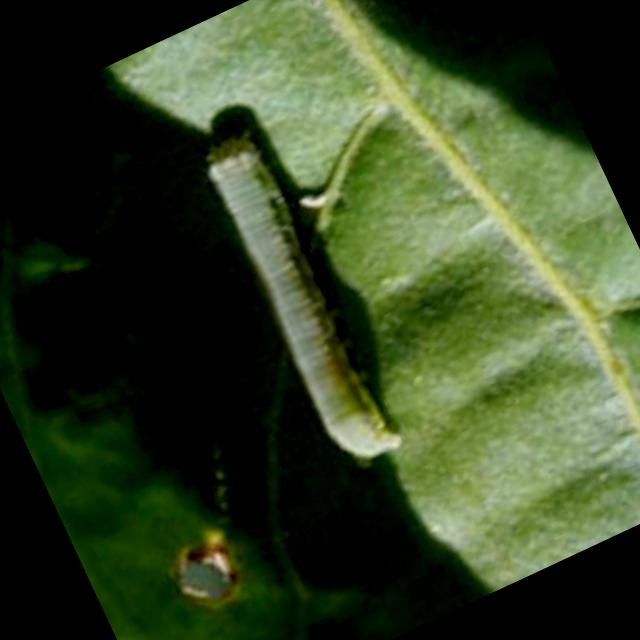Beet armyworm: (132, 80, 485, 529)
